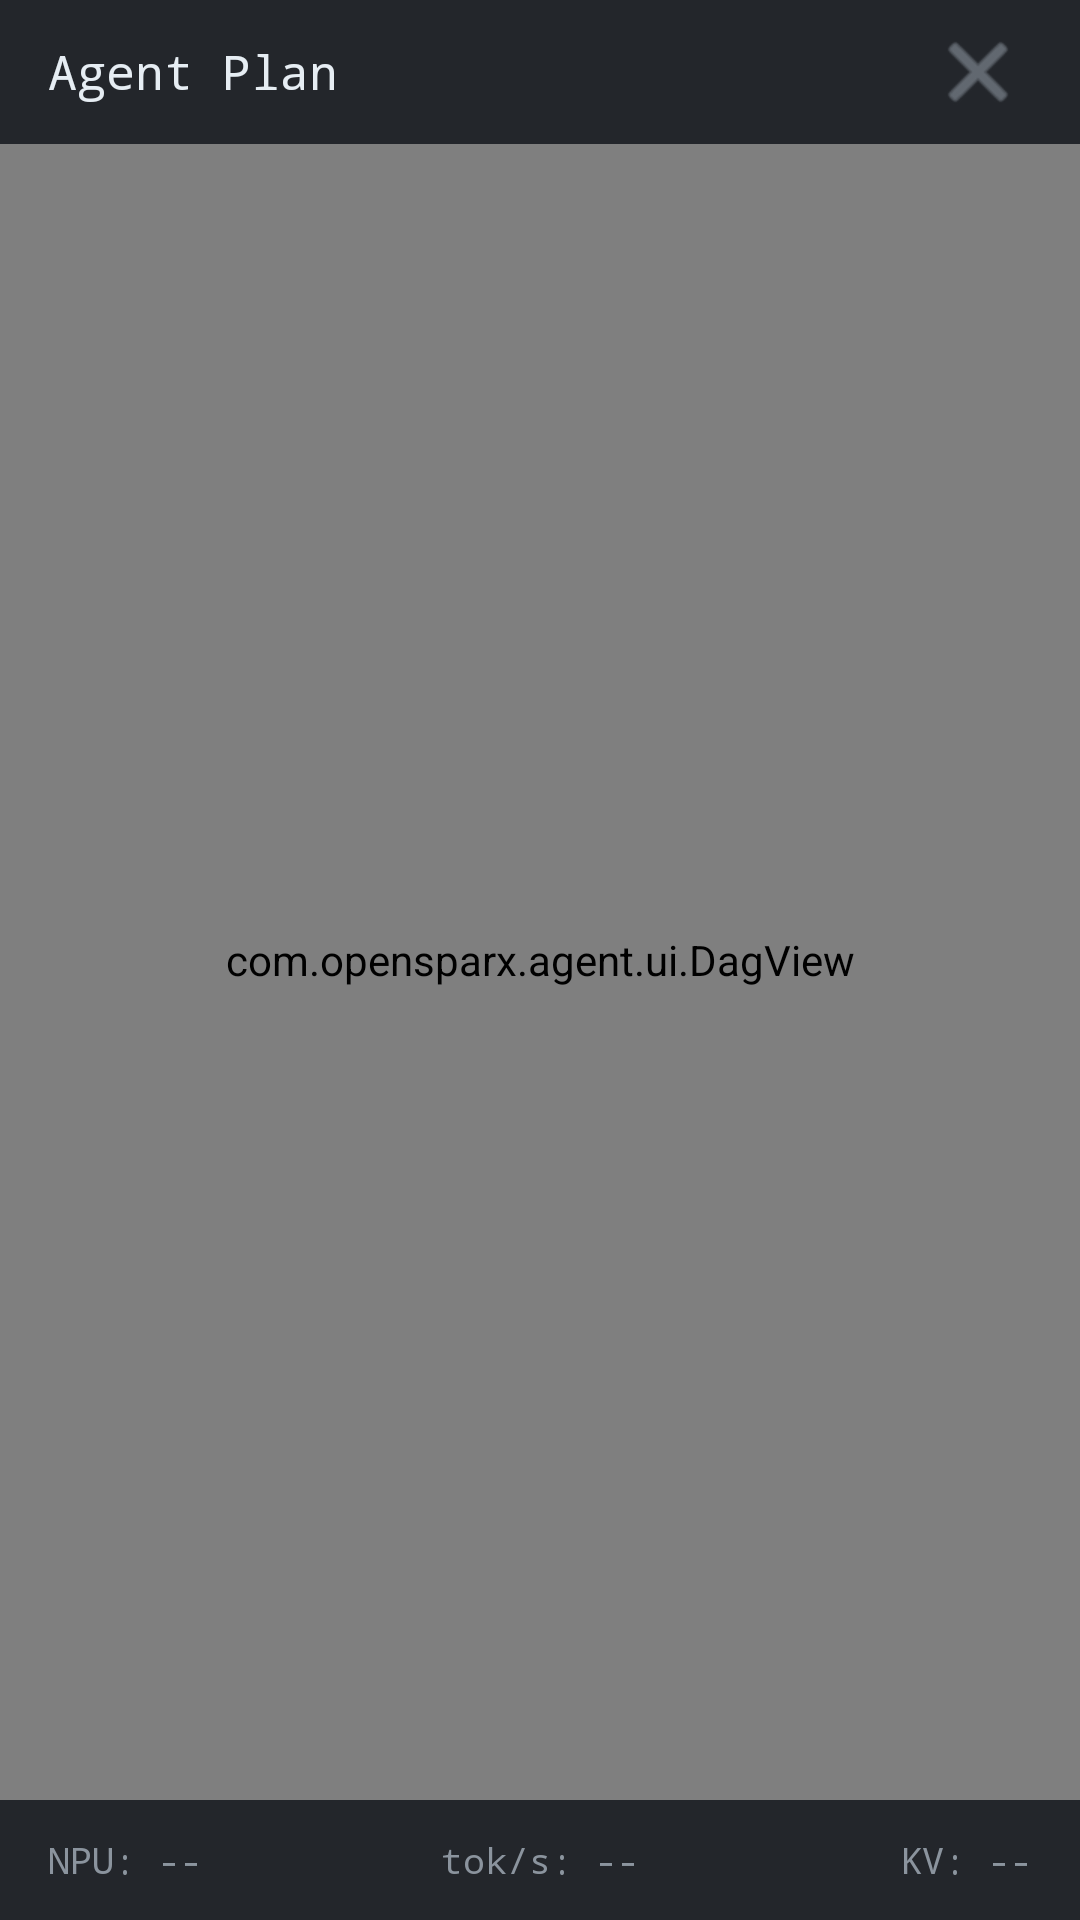

Locate icon controls on the screen. Image size 1080 × 1920, boxes as (x1, y1, x2, y2).
Close panel: (949, 43, 1007, 101)
